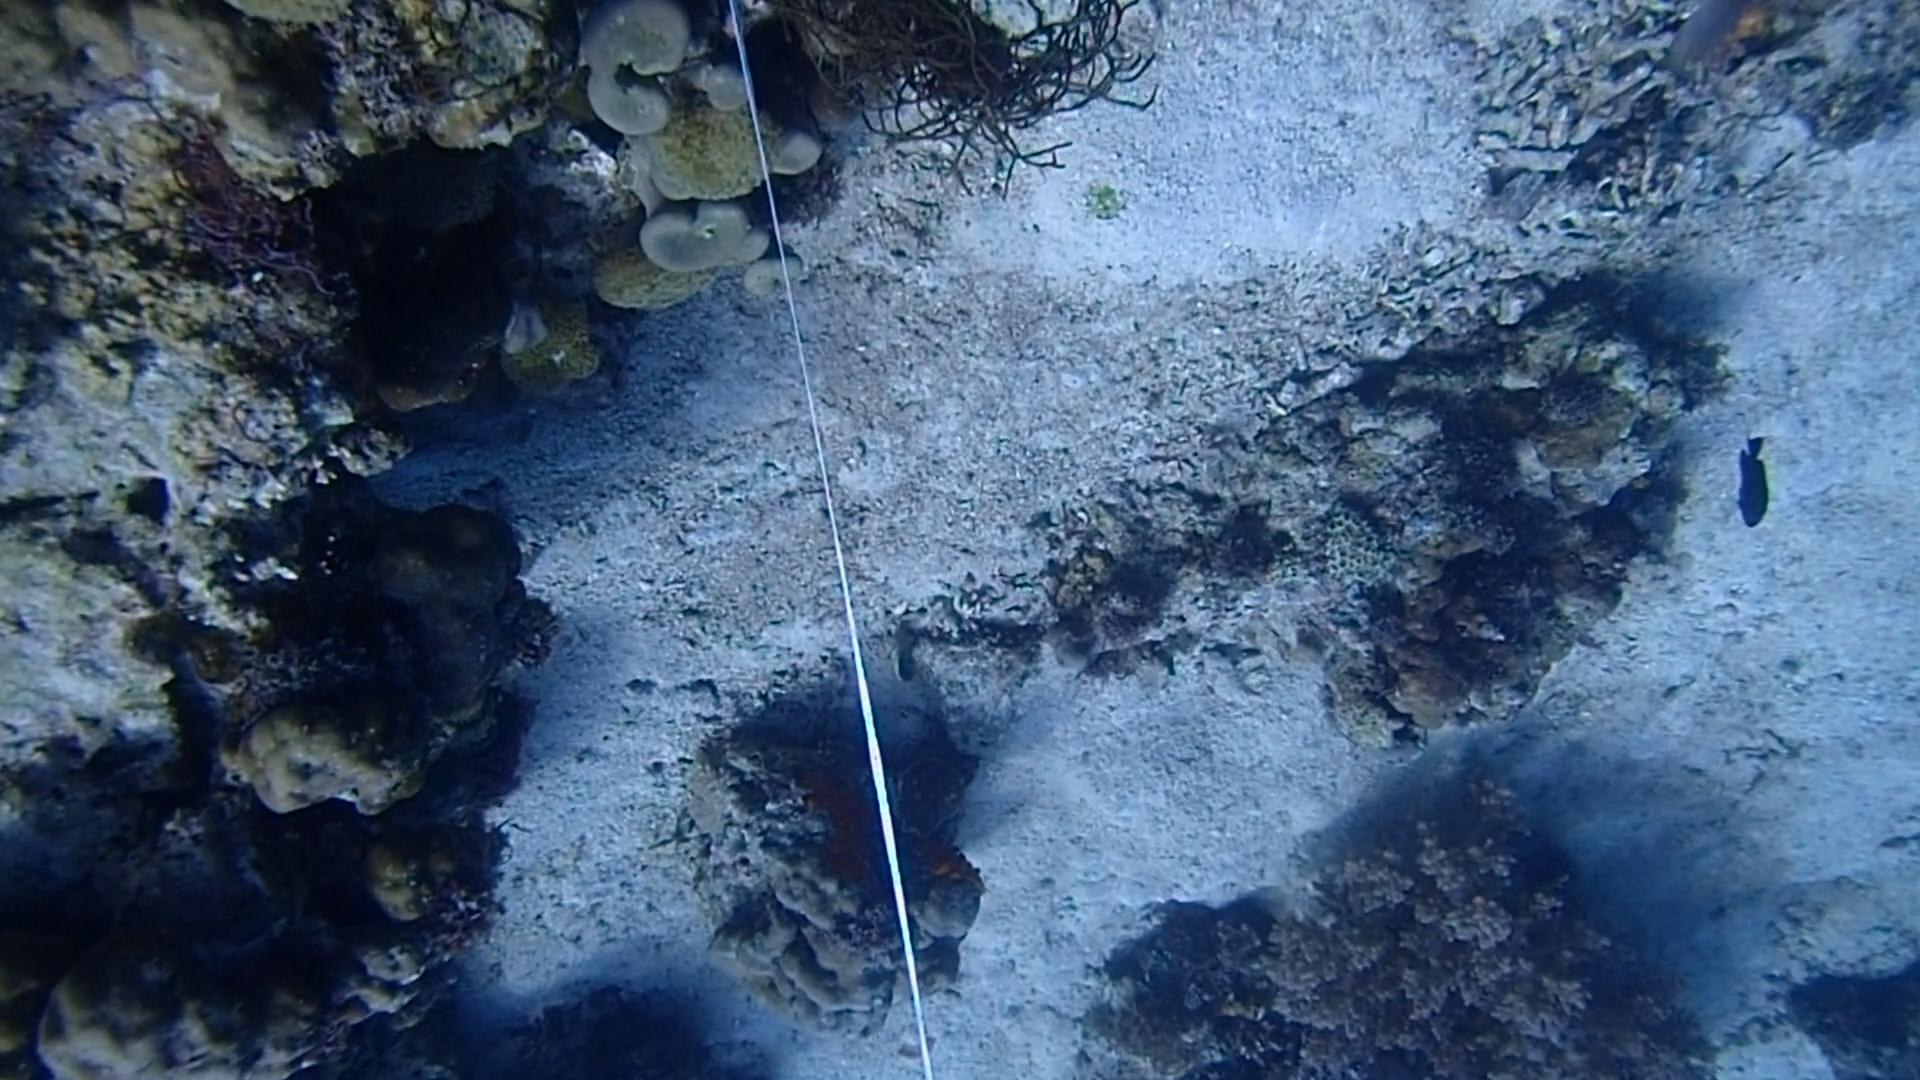Dark Fish: (1718, 435, 1784, 542)
